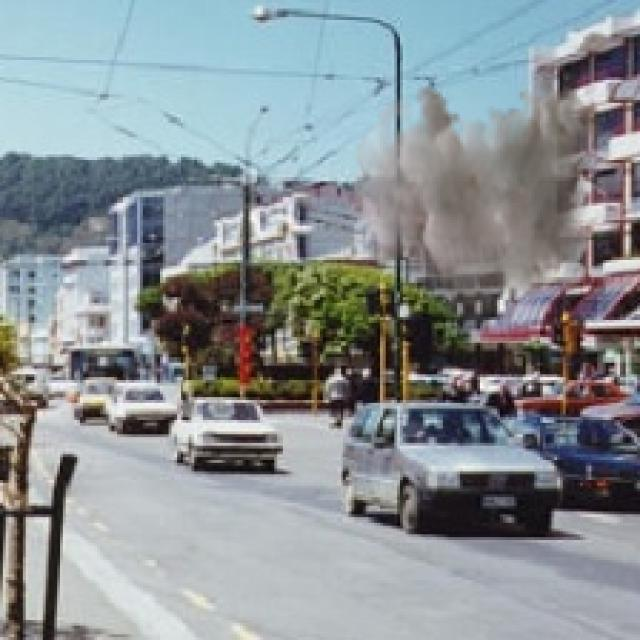Smoke: (351, 77, 603, 334)
